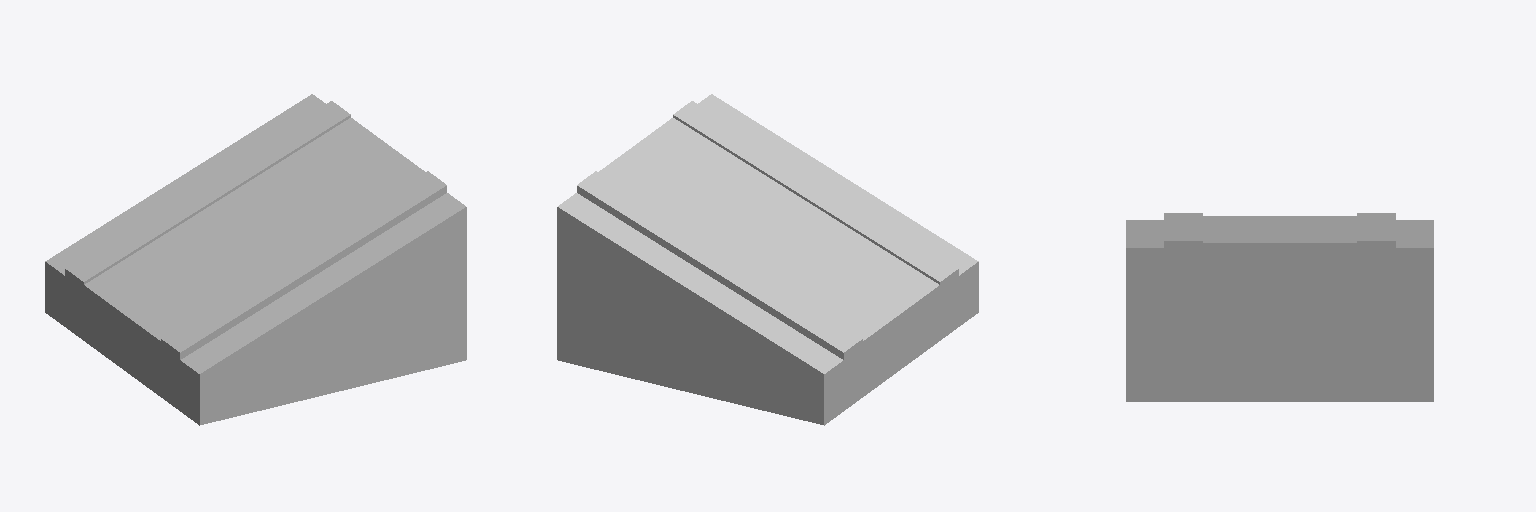
Rendered from tile071.obj.
3 views of the same model, side by side, from view 1: azimuth 30°, elevation 25°; view 2: azimuth 150°, elevation 25°; view 3: azimuth 270°, elevation 25° (orthographic).
Visible parts, largest first — view 1: tile071; view 2: tile071; view 3: tile071.
Part boxes in pixels (bbox=[...]): tile071: bbox=[45, 94, 466, 425]; tile071: bbox=[557, 94, 978, 425]; tile071: bbox=[1126, 213, 1433, 401].
Size of the model in its own units: 1 by 0.5767 by 1.